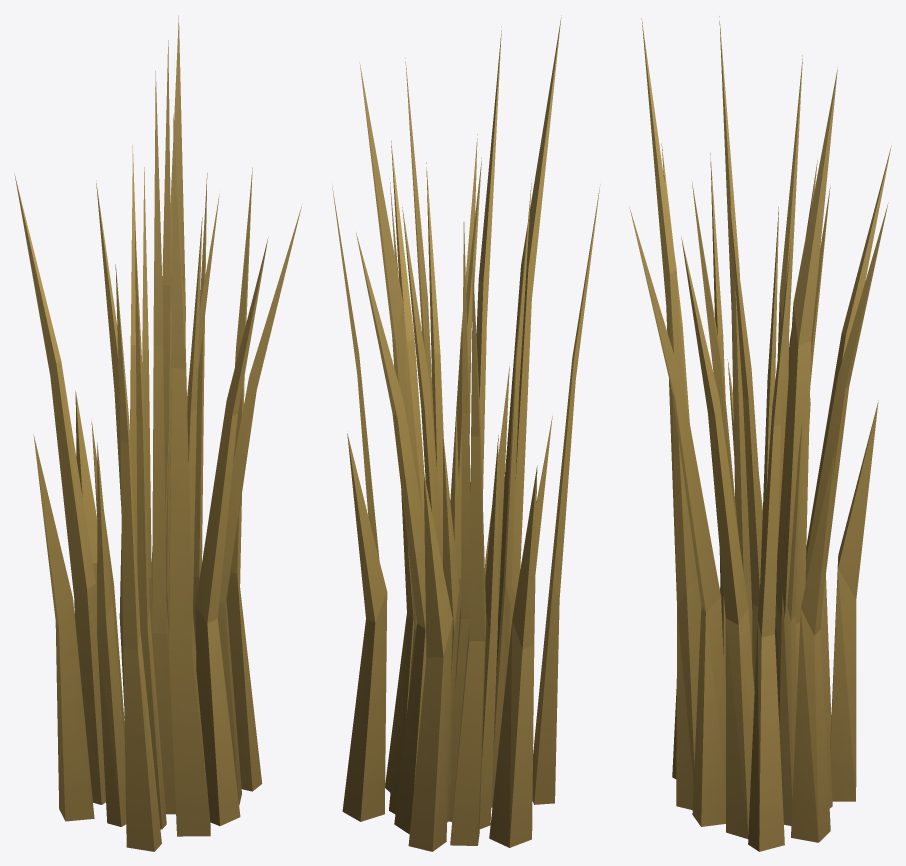
File: tallgrass_b.glb
3 renders of one model, left to right at view 1: azimuth 30°, elevation 25°; view 2: azimuth 150°, elevation 25°; view 3: azimuth 270°, elevation 25°, orthographic.
Parts seen in each view (by area): view 1: GrassHigh_D_4; view 2: GrassHigh_D_4; view 3: GrassHigh_D_4.
Part boxes in pixels (left/top/right/bottom): GrassHigh_D_4: left=14, top=15, right=301, bottom=851; GrassHigh_D_4: left=332, top=15, right=600, bottom=851; GrassHigh_D_4: left=629, top=16, right=891, bottom=851.
Bounding box in the file's own units: 0.2456 × 0.85 × 0.2612.
1 material, 1 textured.
